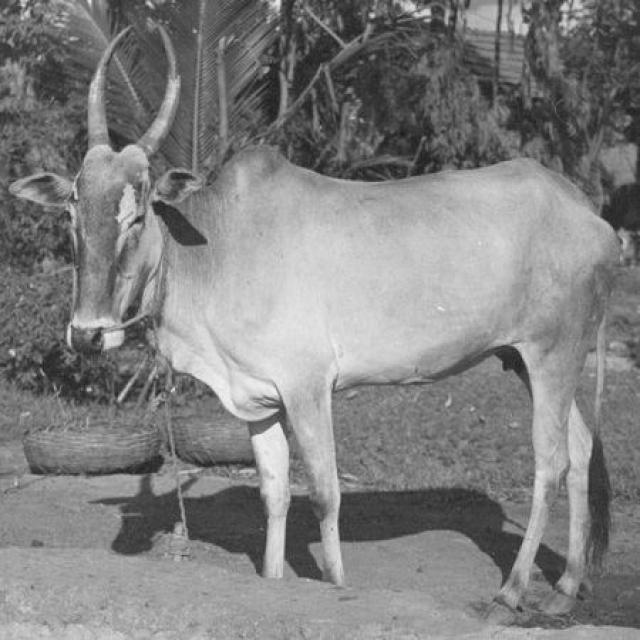Cow: (7, 21, 623, 625)
